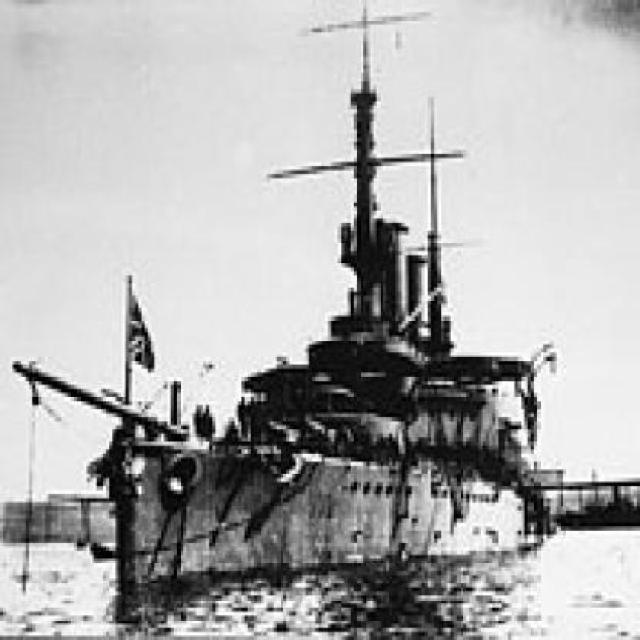warship2: (10, 1, 567, 616)
